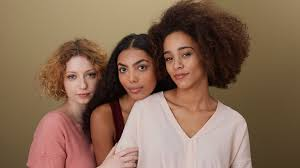face: (157, 39, 212, 90), (115, 56, 161, 102), (61, 64, 101, 107)
